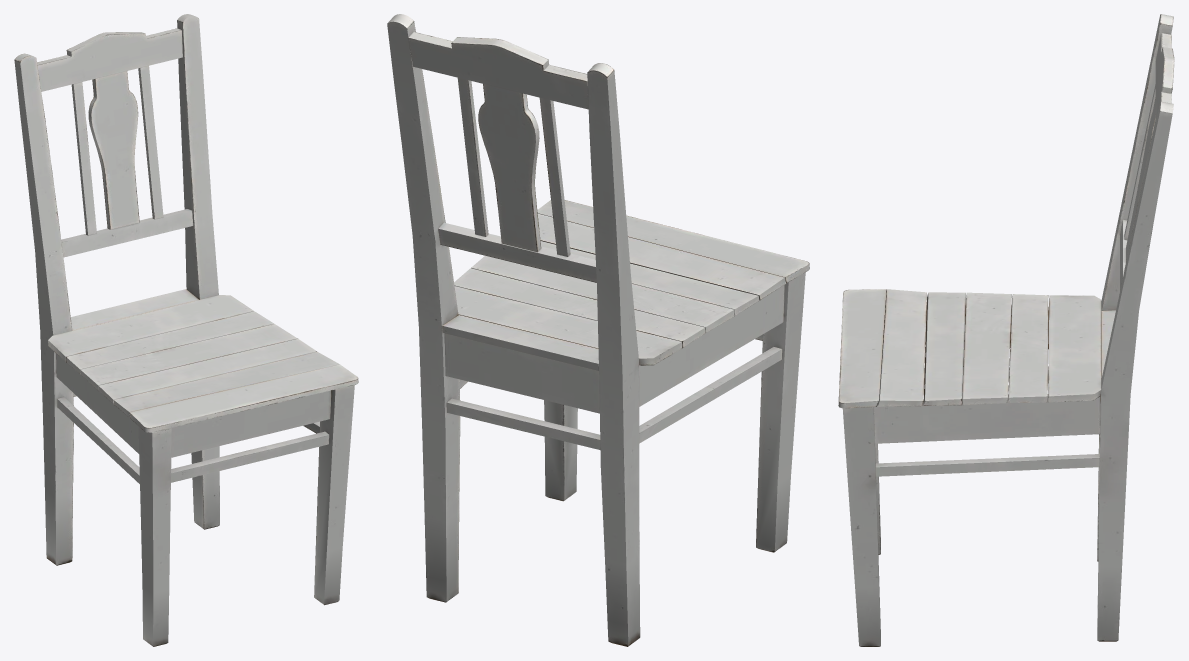
File: painted_wooden_chair_01.glb
3 views of the same model, side by side, from view 1: azimuth 30°, elevation 25°; view 2: azimuth 150°, elevation 25°; view 3: azimuth 270°, elevation 25° (orthographic). The views are drawn at different scales.
Parts seen in each view (by area): view 1: painted_wooden_chair_01; view 2: painted_wooden_chair_01; view 3: painted_wooden_chair_01.
Boxes of the visible parts, box(x1,y1,x2,y2) form: painted_wooden_chair_01: box(14, 14, 358, 646); painted_wooden_chair_01: box(387, 14, 809, 646); painted_wooden_chair_01: box(838, 14, 1174, 646).
Bounding box in the file's own units: 0.4317 × 0.9565 × 0.5398.
1 material, 1 textured.
